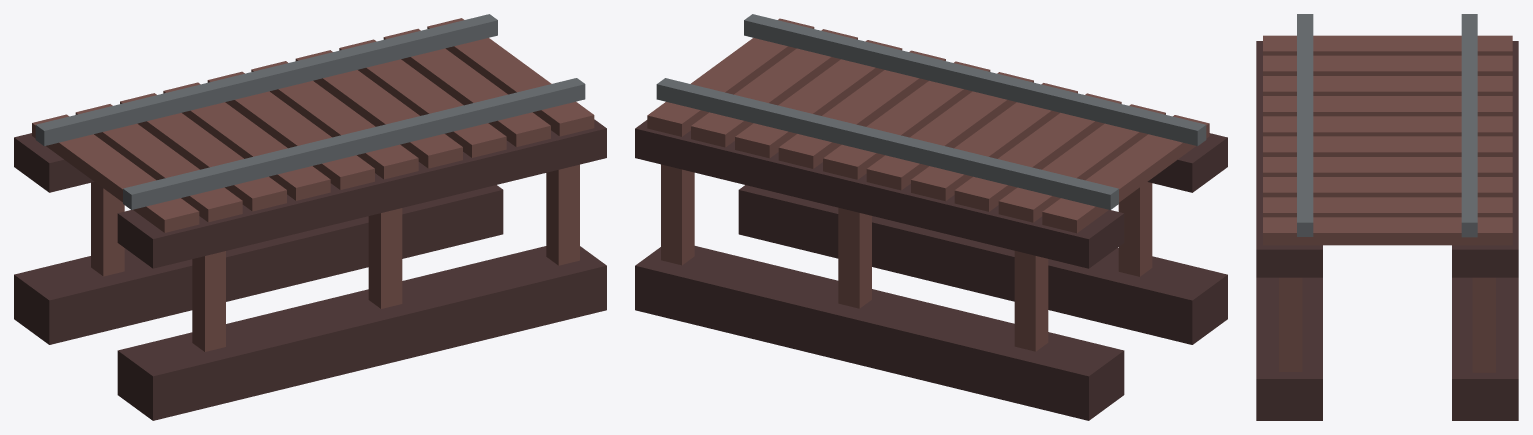
Rendered from DarkRoseWoodMechSmall1_5GaugeStraight1.fbx.
3 views of the same model, side by side, from view 1: azimuth 30°, elevation 25°; view 2: azimuth 150°, elevation 25°; view 3: azimuth 270°, elevation 25° (orthographic). The views are drawn at different scales.
Parts seen in each view (by area): view 1: DarkRoseWoodMechSmall1_5GaugeStraight1; view 2: DarkRoseWoodMechSmall1_5GaugeStraight1; view 3: DarkRoseWoodMechSmall1_5GaugeStraight1.
Boxes of the visible parts, x1,y1,x2,y2 form: DarkRoseWoodMechSmall1_5GaugeStraight1: [14, 14, 606, 420]; DarkRoseWoodMechSmall1_5GaugeStraight1: [635, 14, 1227, 420]; DarkRoseWoodMechSmall1_5GaugeStraight1: [1256, 14, 1518, 420].
Size of the model in its own units: 499 by 221 by 265.
